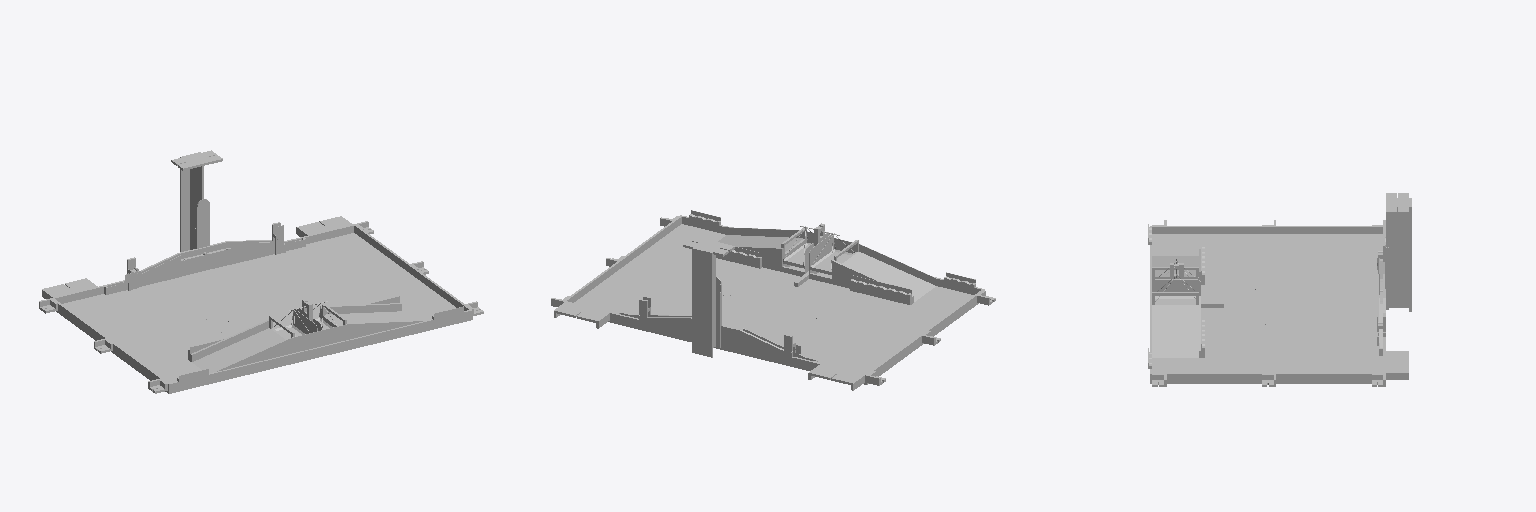
File: Table2019 v141 (Meshed).obj
The picture shows the model from 3 angles: view 1: azimuth 30°, elevation 25°; view 2: azimuth 150°, elevation 25°; view 3: azimuth 270°, elevation 25°; orthographic projection.
Bounding box in the file's own units: 3288 × 1022 × 2279.